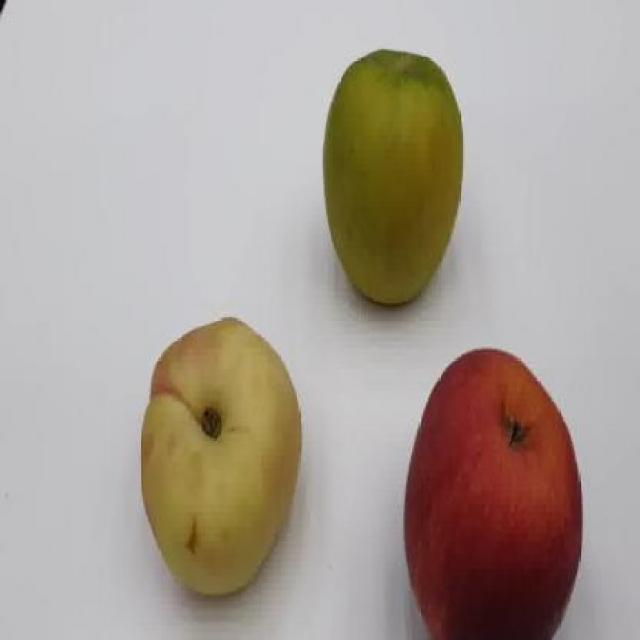Fresh Apple: (398, 350, 578, 640), (130, 315, 314, 593), (316, 50, 474, 308)
